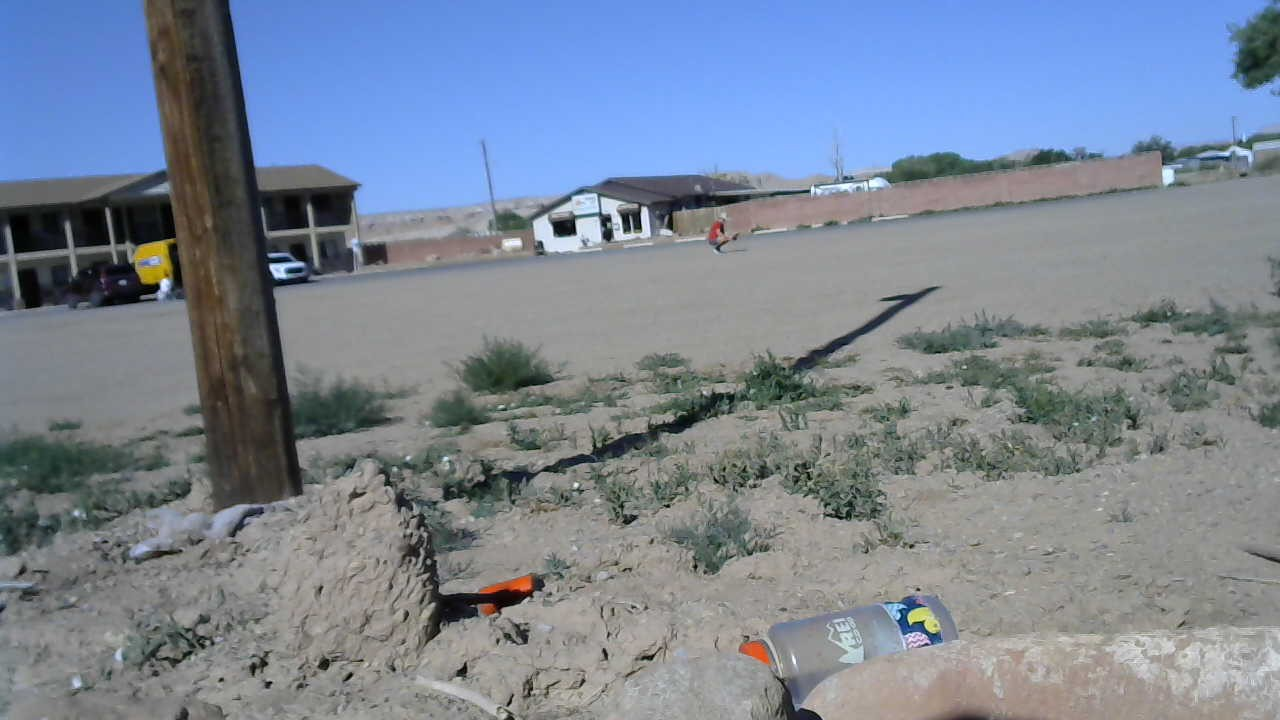bottle: (727, 588, 970, 686), (467, 563, 550, 622)
